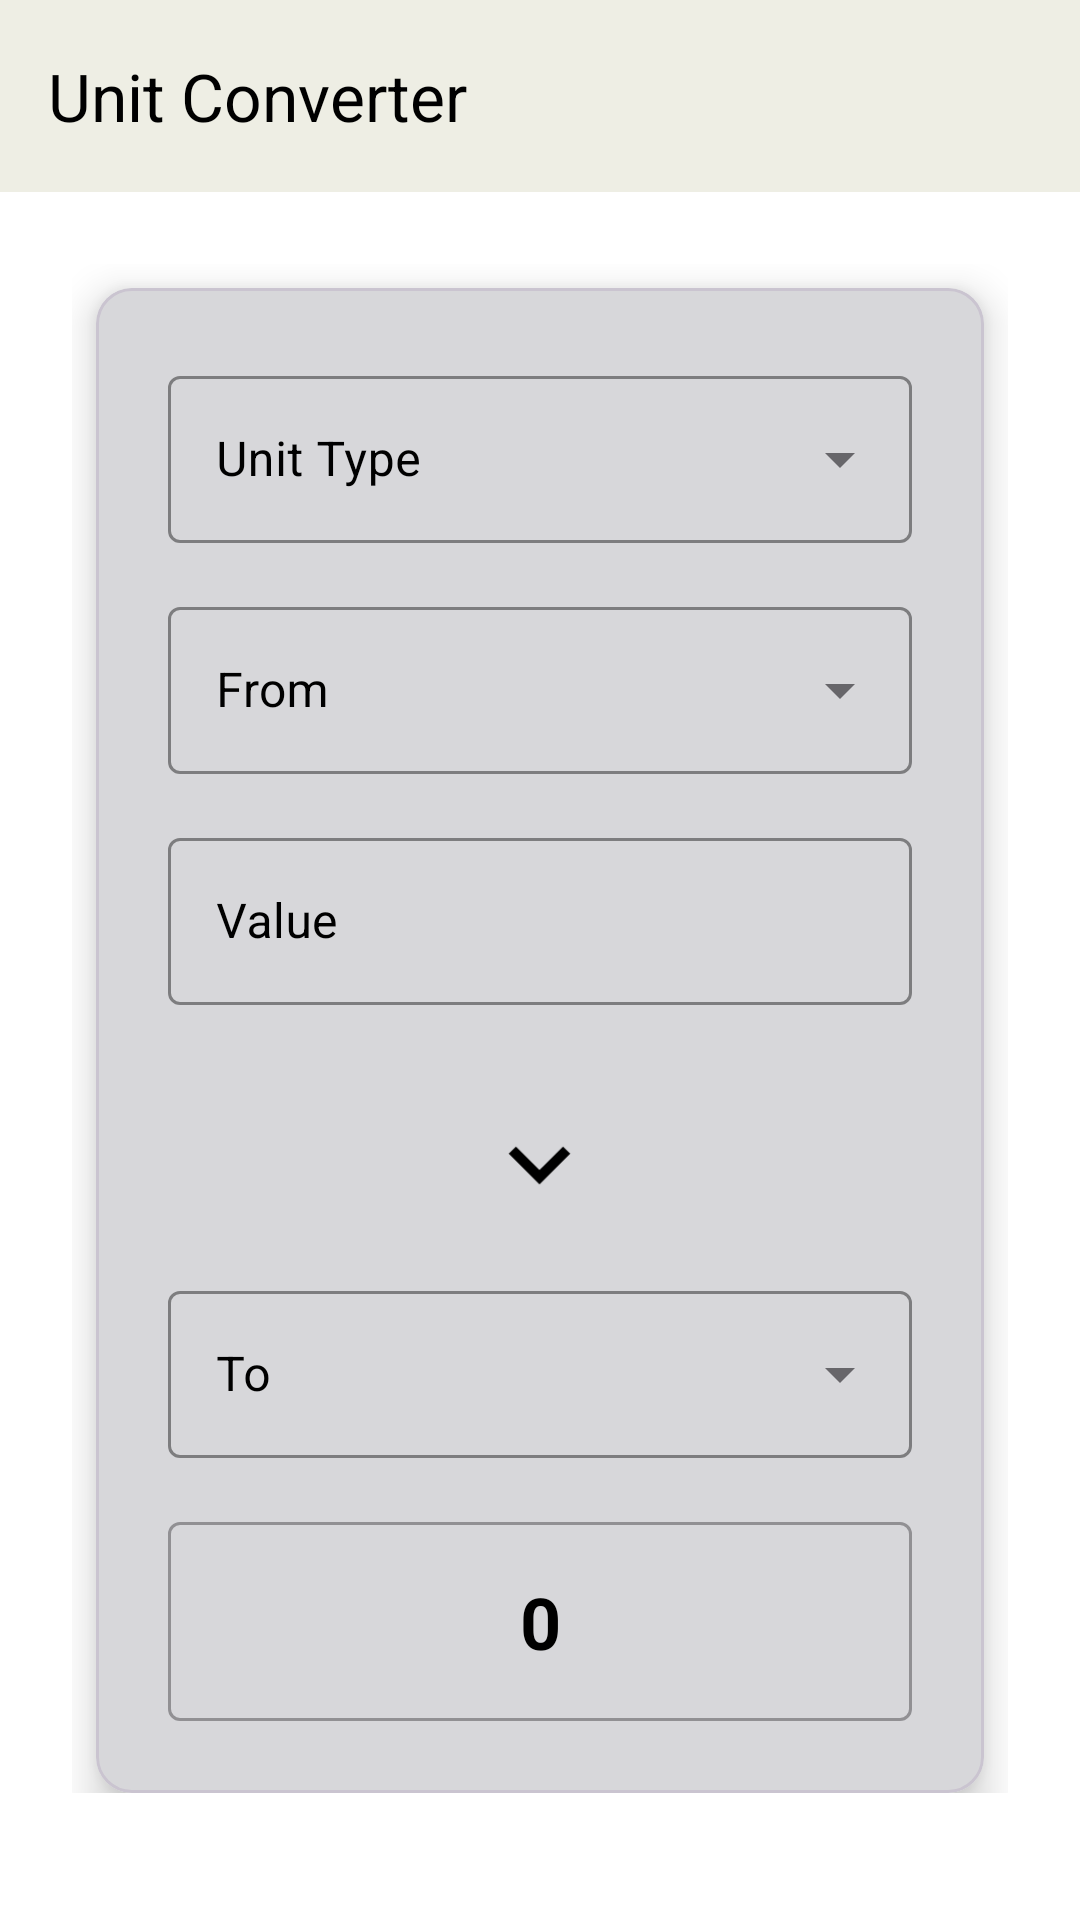

Icon bounding boxes for this 1080 × 1920 phone screenshot, format (x1, y1, x2, y2):
Convert arrow: (508, 1146, 571, 1185)
